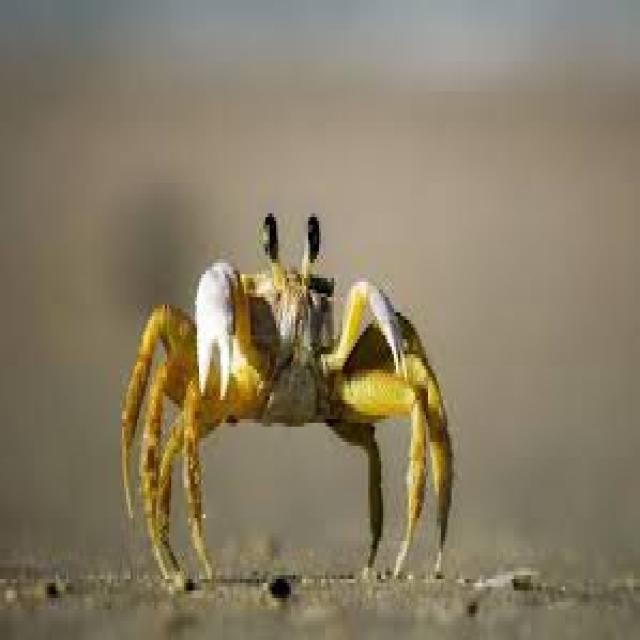crab: (175, 201, 409, 474)
